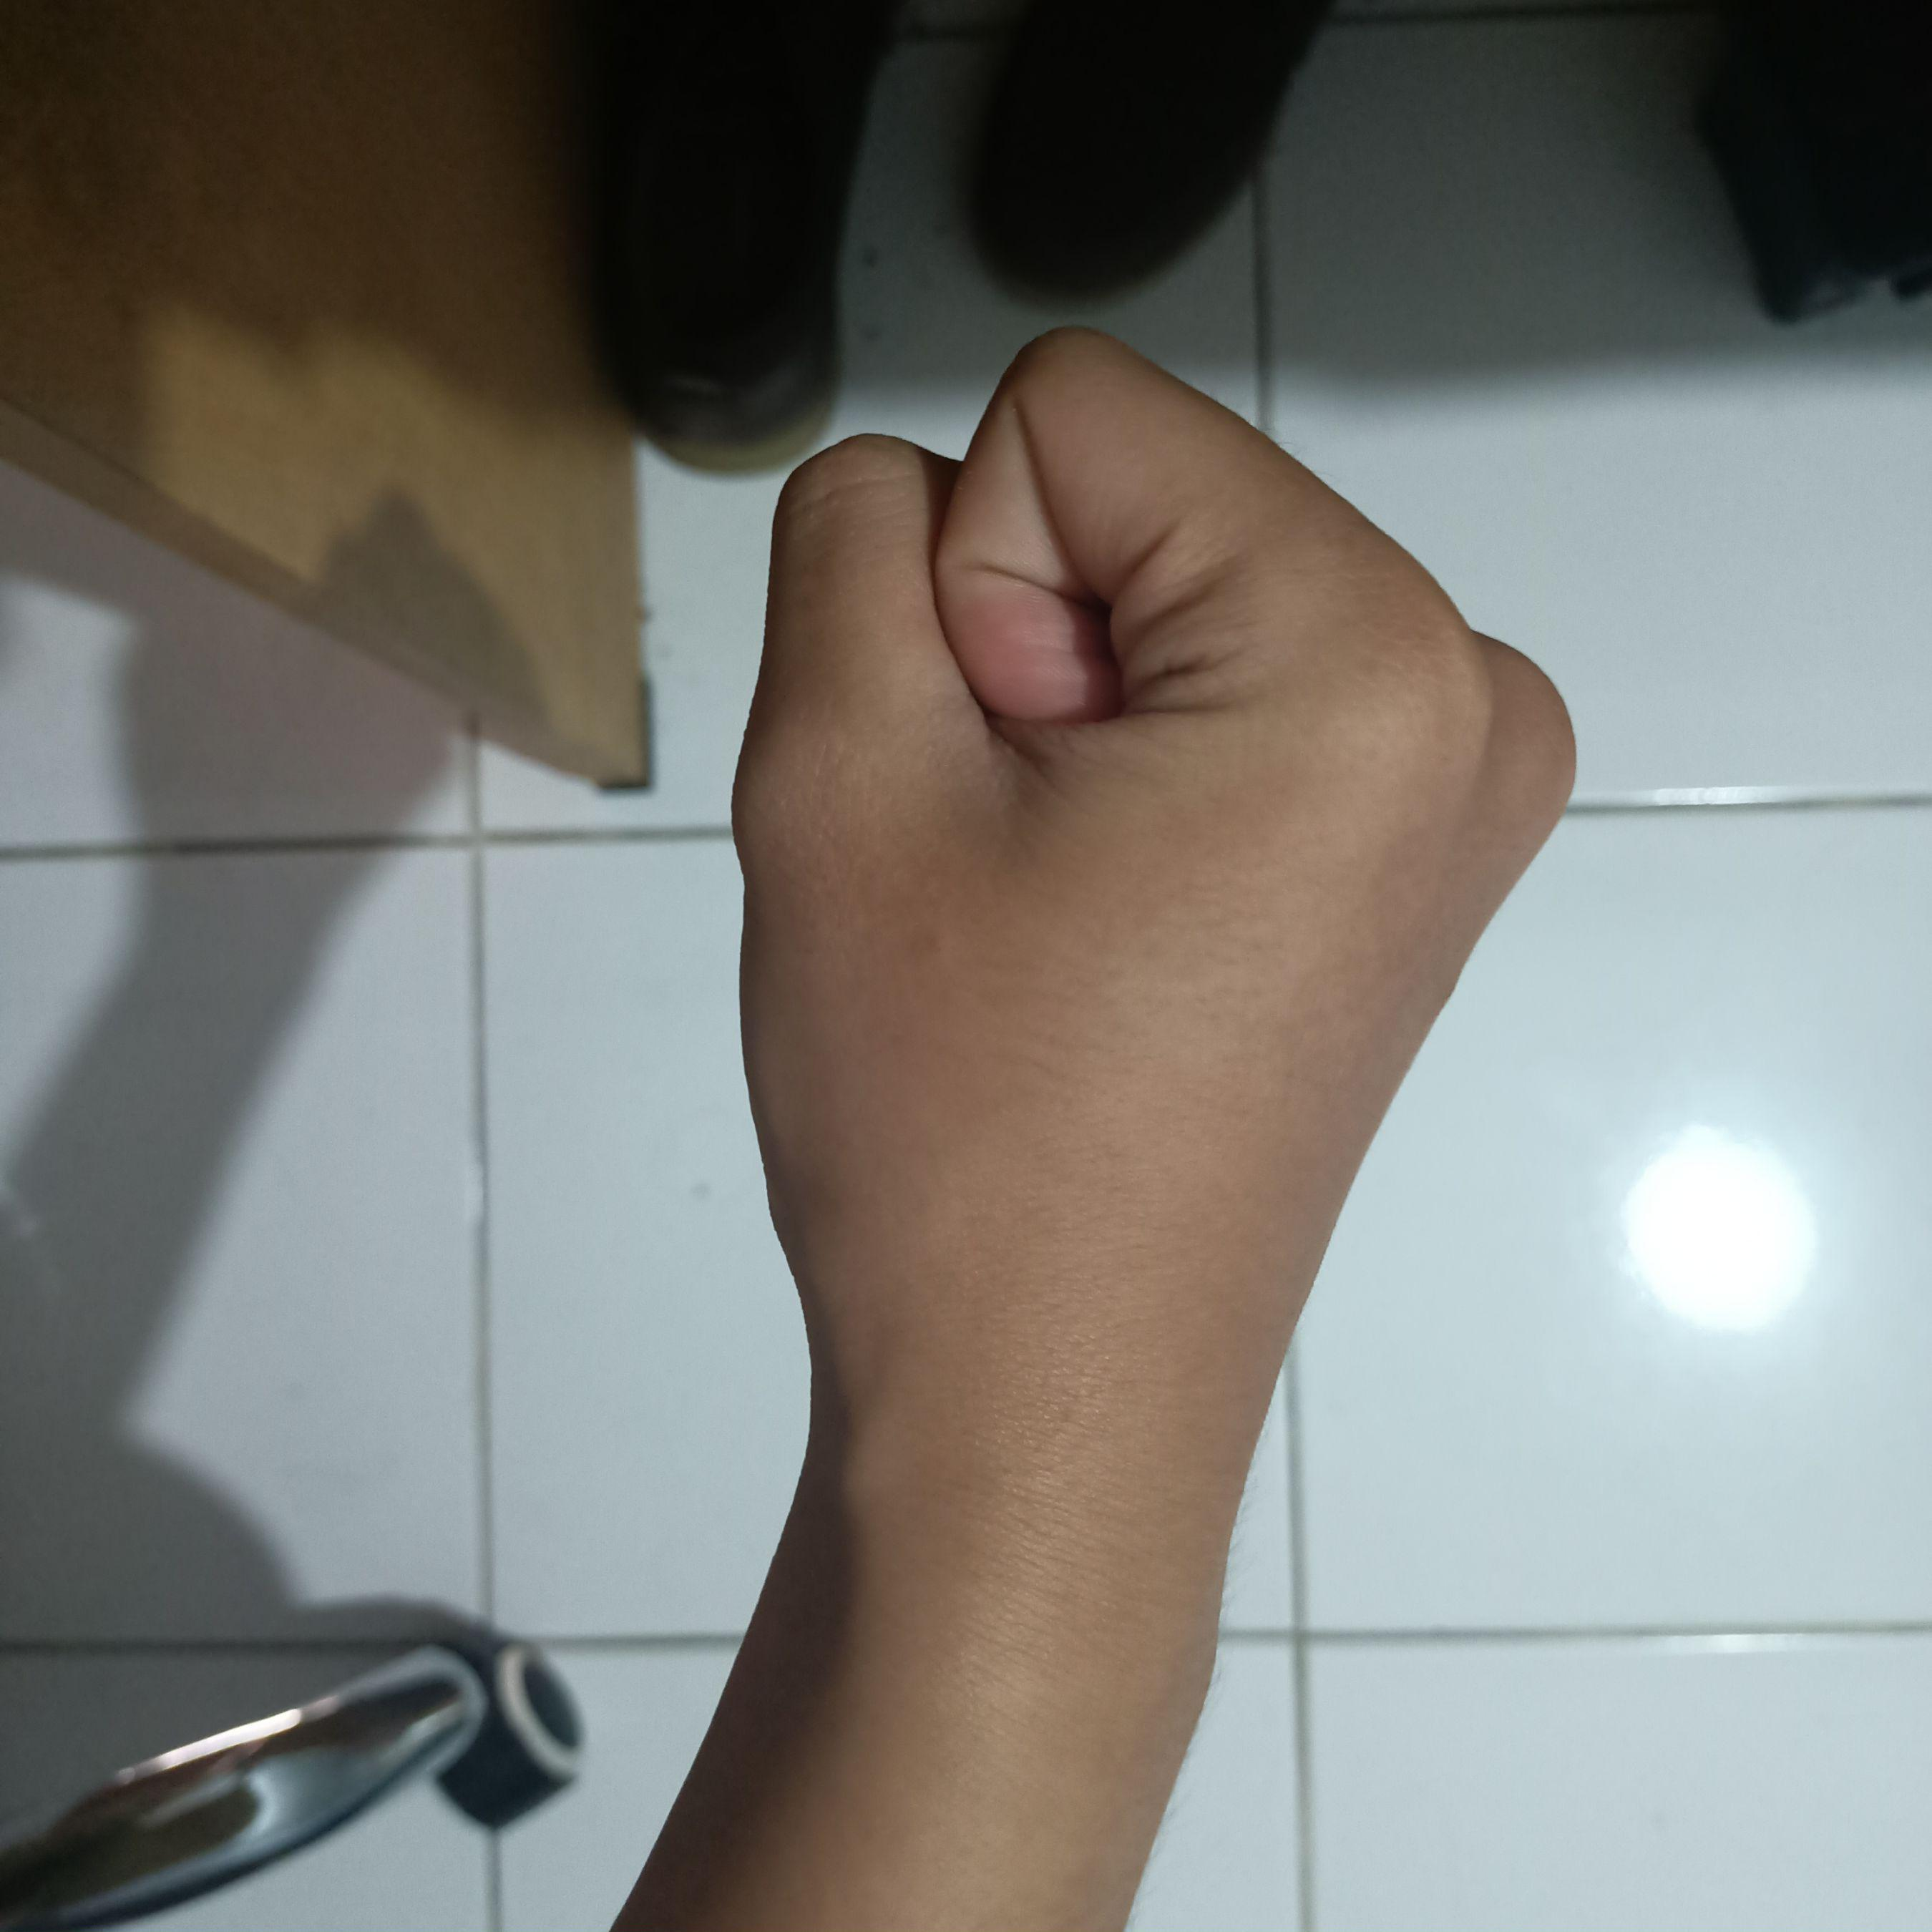rock: (720, 327, 1589, 1534)
